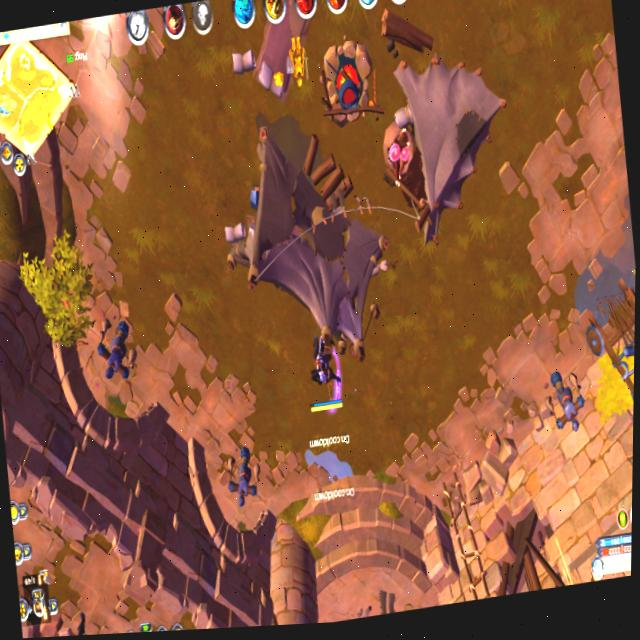red: (299, 323, 350, 418)
